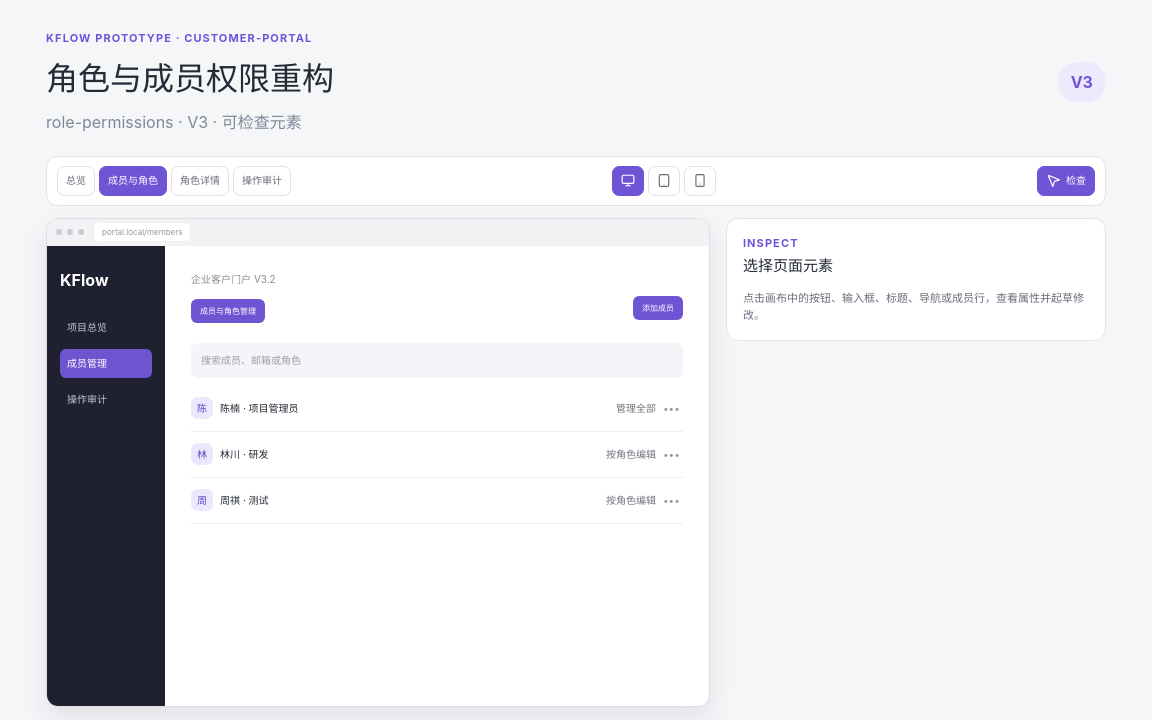
defaults direct standalone access to read only without trusted role state
What coordinates should you click on to do the following:
click the button with aria-label "选择添加成员按钮"
I would click on:
 (658, 308)
Its box is [633,296,683,320].
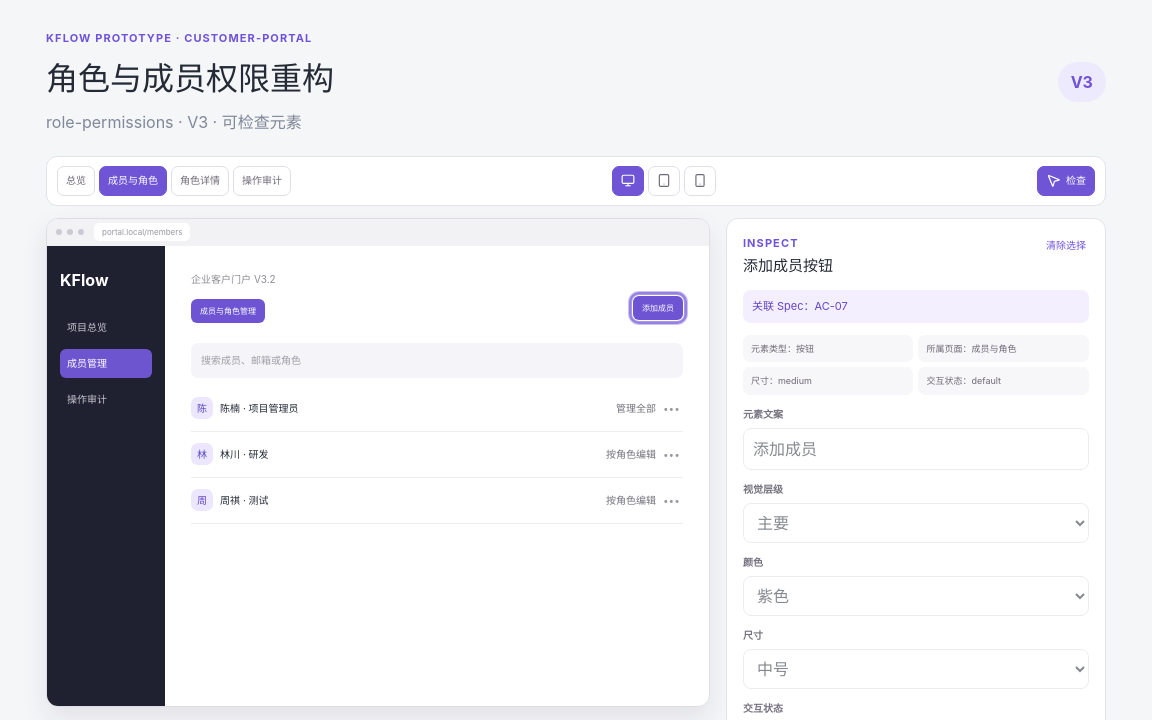
Result: the field labelled "元素文案" is disabled at [743,428,1089,470]
